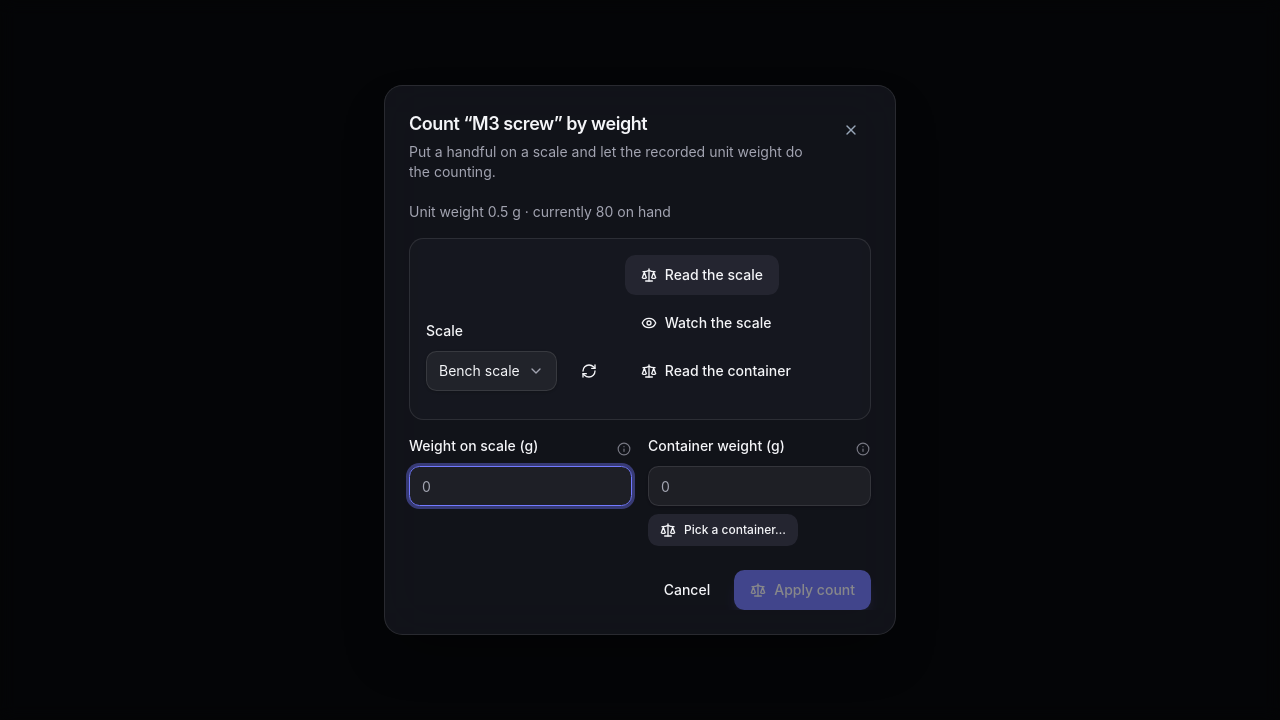
it: ScaleReadPanel (issue #122) › drops the "read from the scale" note once the field is edited by hand
Click the button with test id "scale-read" at (702, 275), box left=625, top=255, right=779, bottom=295
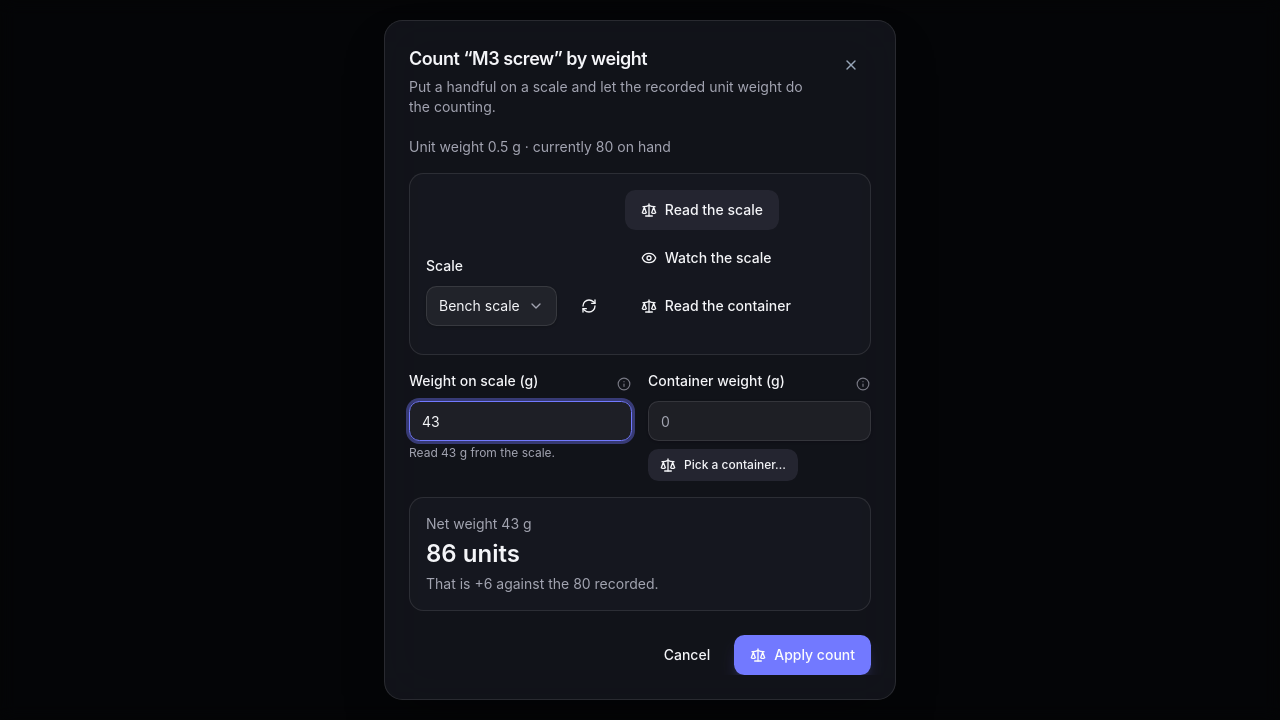
Now the text "Read 43 g from the scale." is shown, box left=409, top=445, right=555, bottom=460
Replace the text in the field labelled "Weight on scale (g) Read 43 g from the scale." with "50" at (520, 421), box left=409, top=401, right=632, bottom=441
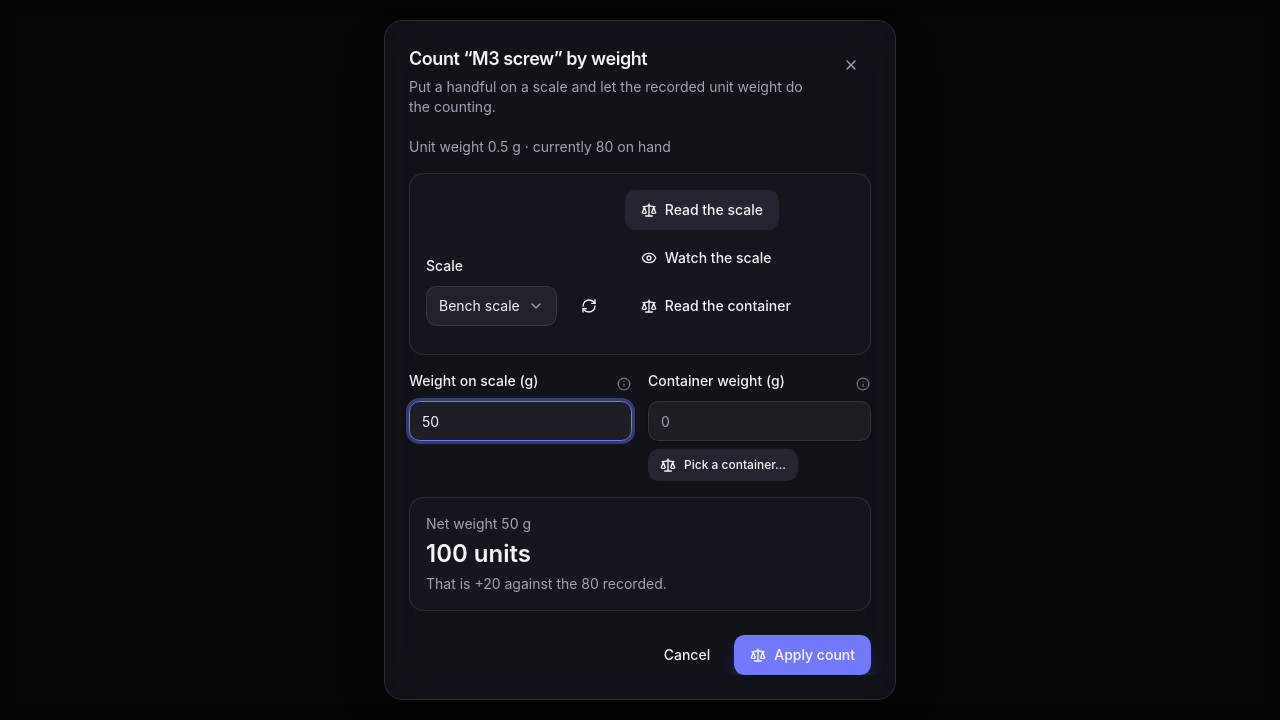
Now the text with test id "weigh-count-scale-source" is gone
